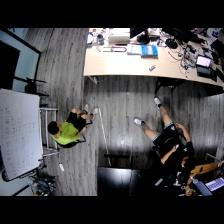normal: (133, 96, 194, 170), (47, 104, 100, 145)
